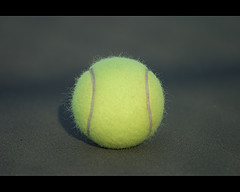tennis ball: (70, 56, 165, 150)
